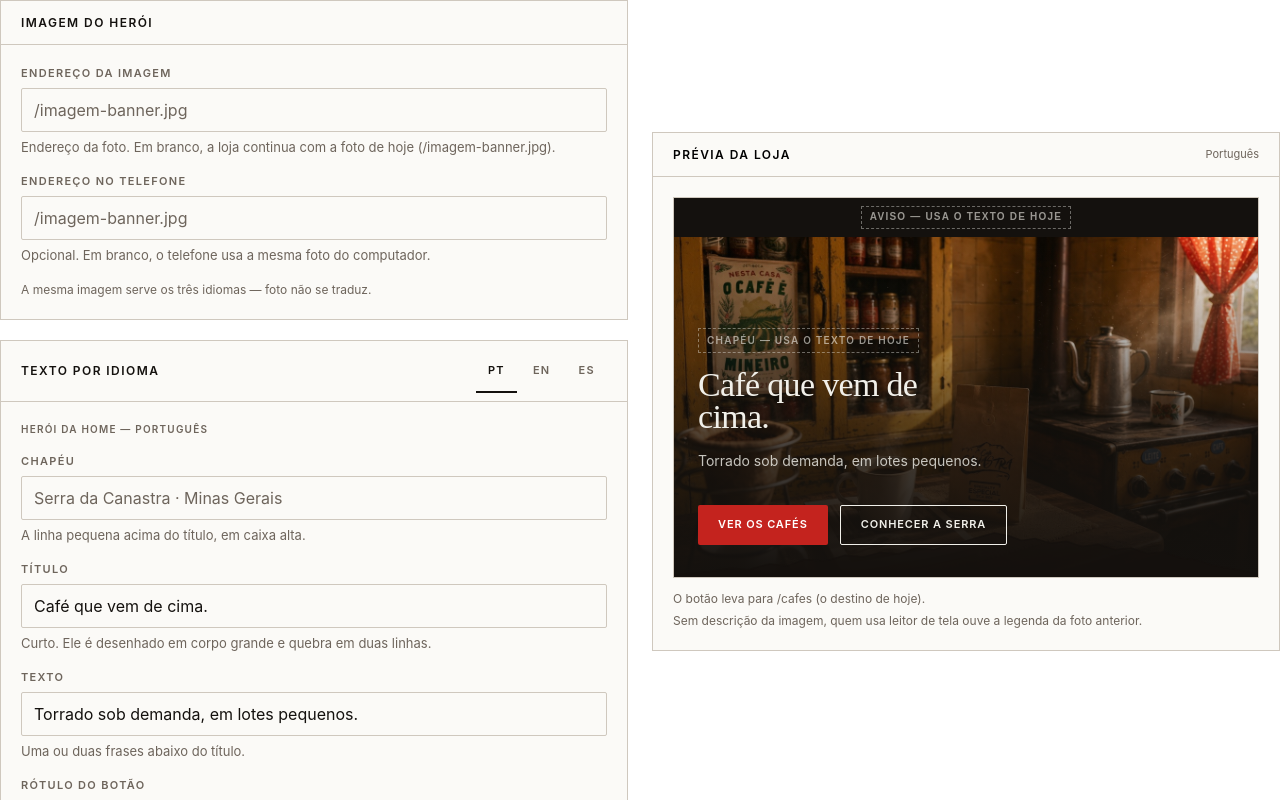
it: a prévia ao vivo — R33 › segue a aba de idioma
Expected: the text "Título — usa o texto de hoje" is not shown
Step 1. Click the tab "es" → {"x": 587, "y": 371}, box [566,349,607,393]
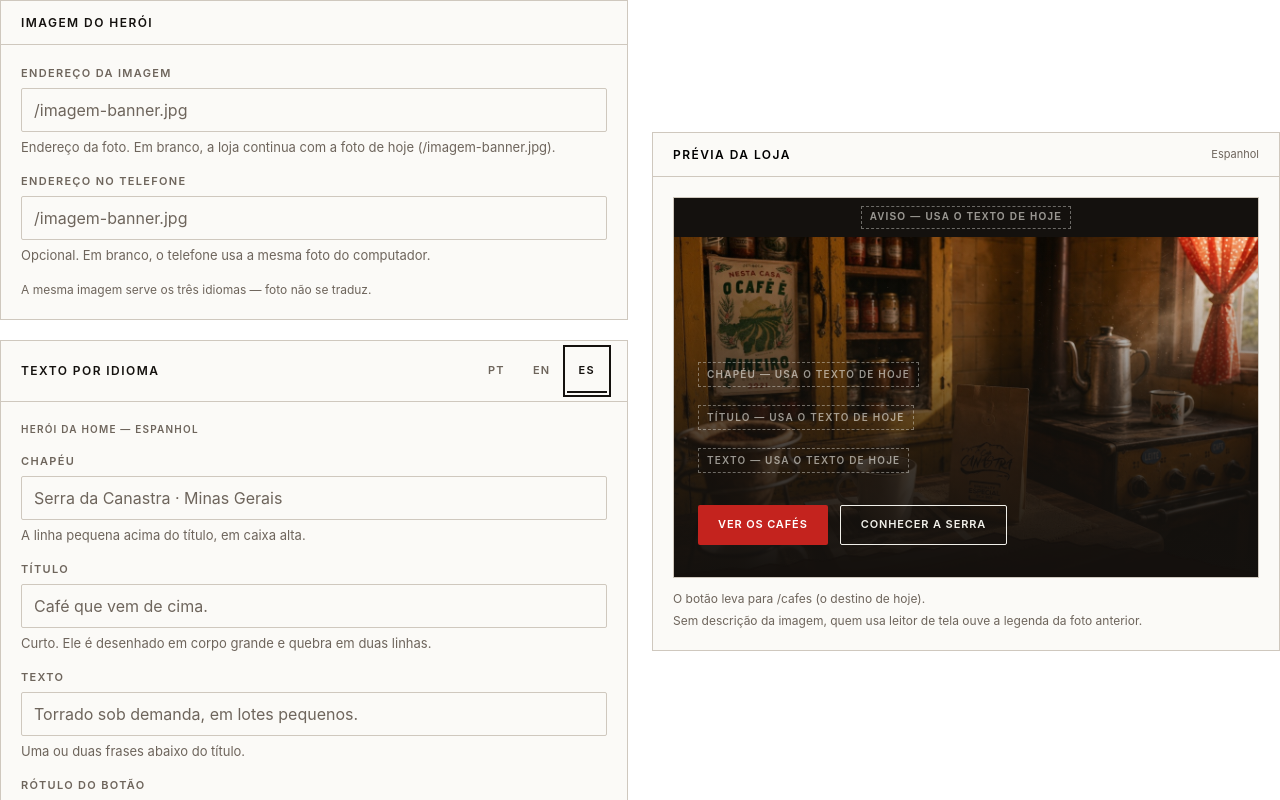
Result: the text "Título — usa o texto de hoje" is shown at [698,404,914,430]
